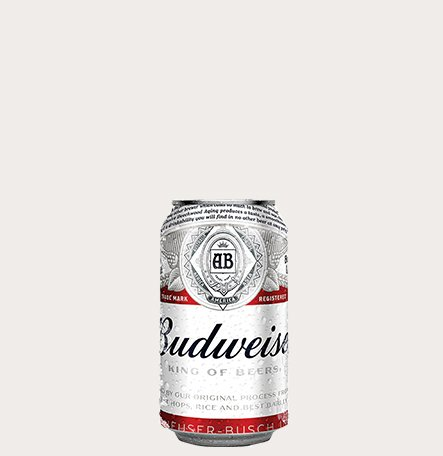can: (155, 195, 298, 452)
